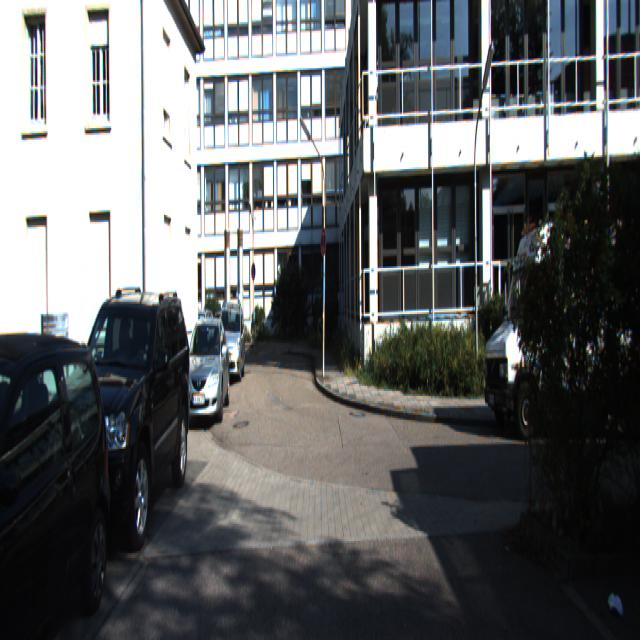Car: (43, 273, 195, 565), (0, 324, 115, 639), (480, 212, 639, 438), (178, 312, 232, 425), (214, 300, 248, 380)
